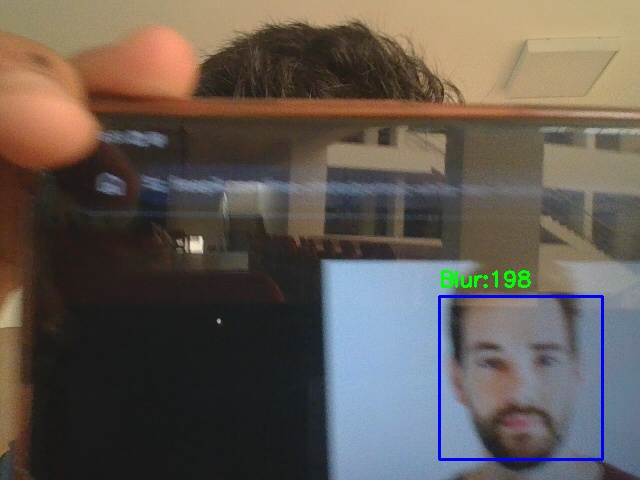fake: (439, 296, 602, 459)
